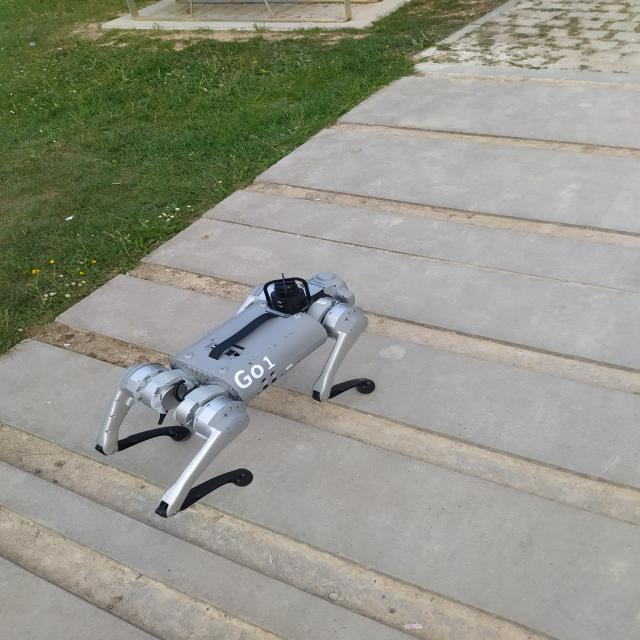unitree-go1-robot: (84, 267, 391, 524)
